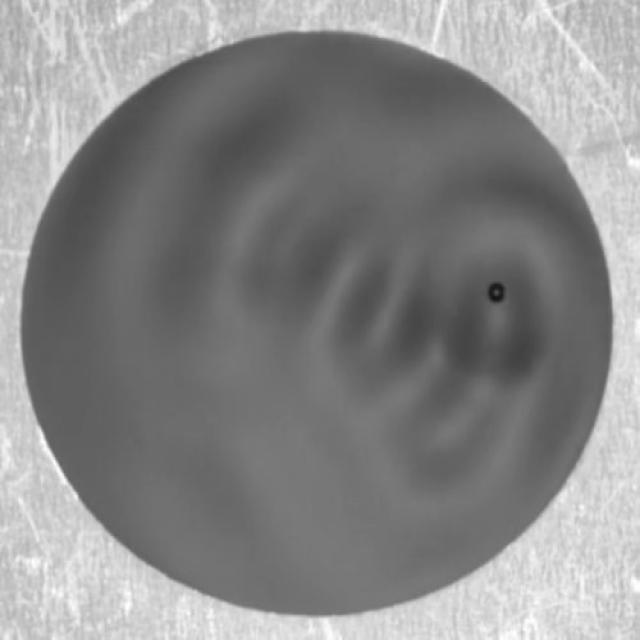droplet: (489, 283, 508, 304)
